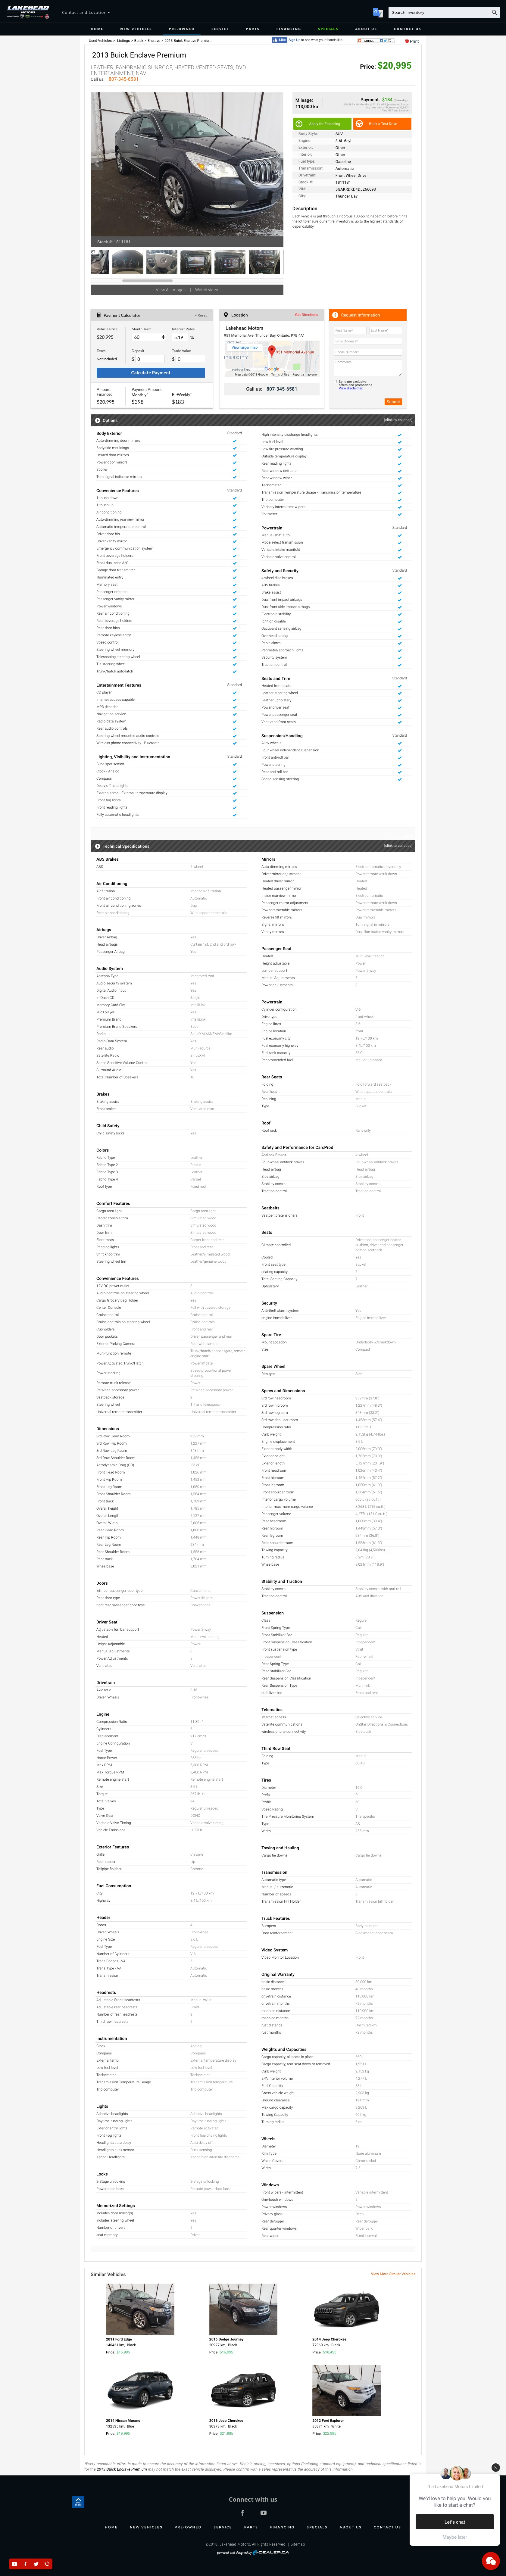car: (274, 161, 281, 169)
